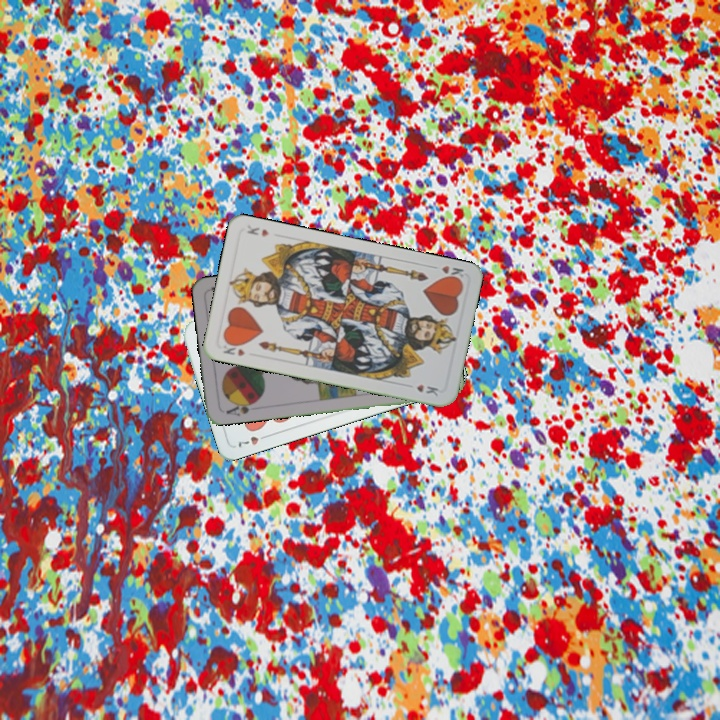H7: (233, 430, 272, 450)
HK: (427, 261, 466, 284), (219, 337, 247, 359)
SA: (222, 396, 260, 418)
